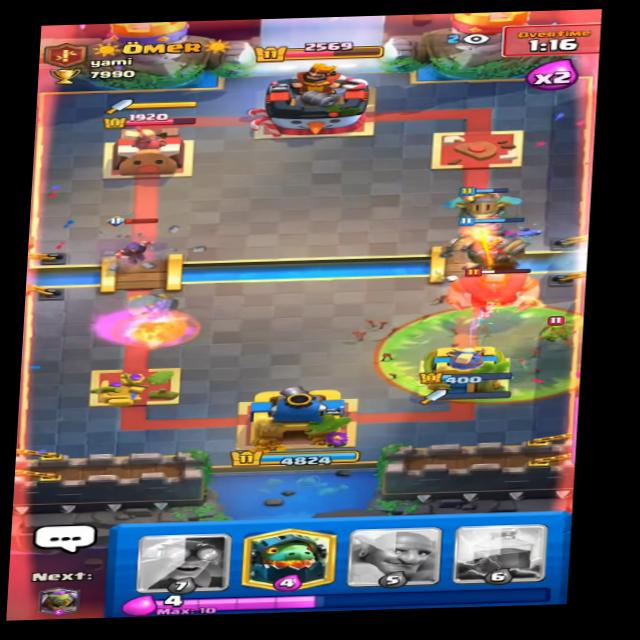arrows: (360, 297, 581, 386)
evo-wizard: (102, 215, 170, 271)
giant: (452, 259, 547, 316)
goblin: (534, 312, 576, 341)
goblin-curse: (371, 306, 587, 405)
